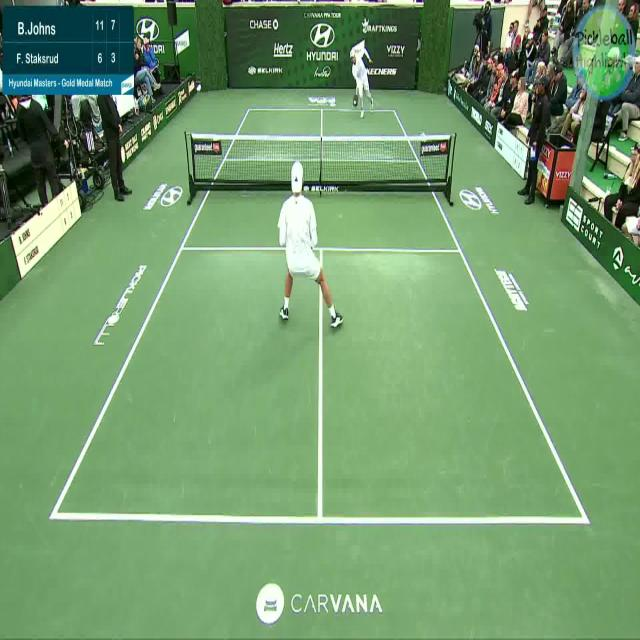ball: (353, 100, 357, 106)
